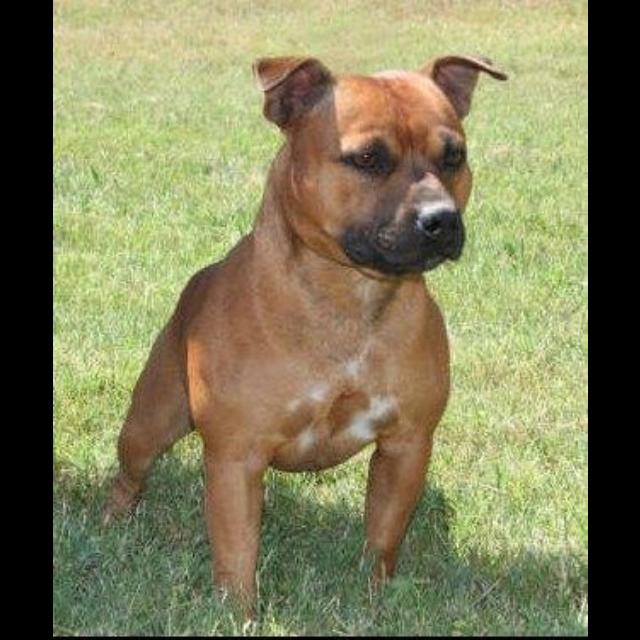staffford: (98, 51, 509, 632)
